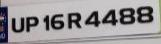1: (43, 14, 51, 33)
4: (101, 7, 119, 28), (85, 8, 101, 28)
6: (51, 10, 66, 31)
8: (137, 3, 154, 25), (119, 5, 137, 25)
P: (25, 15, 39, 34)
R: (67, 11, 83, 30)
U: (10, 15, 25, 33)
